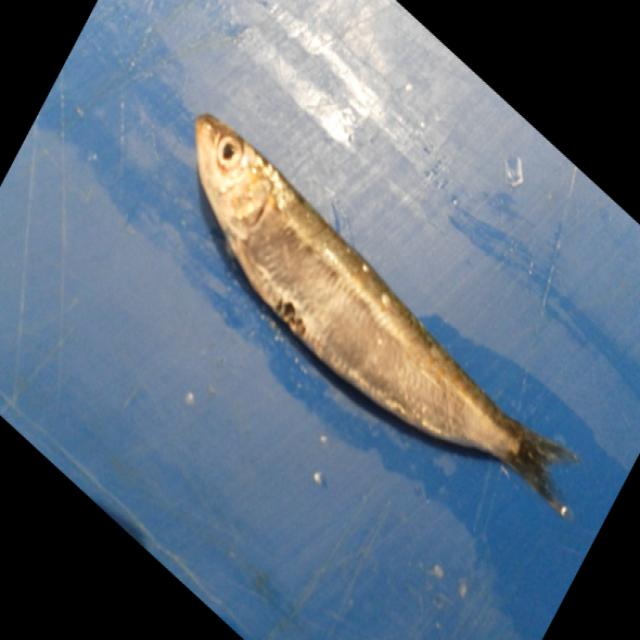Black-Sea-Sprat-tirsi-: (194, 115, 576, 516)
